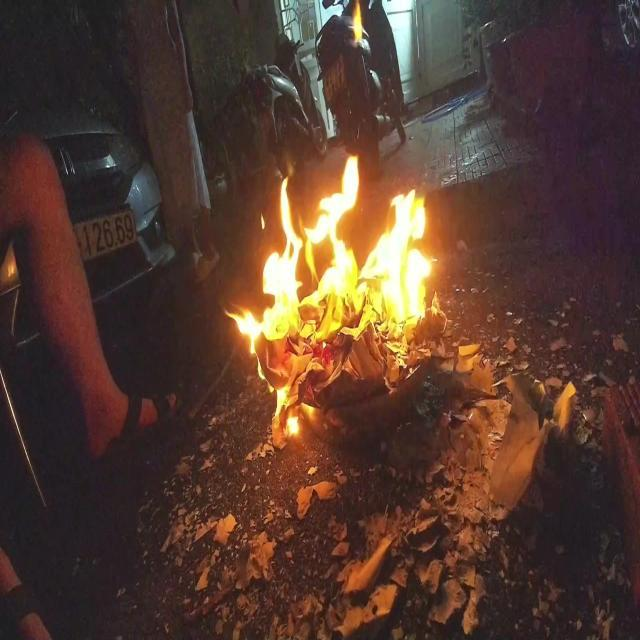Fire: (222, 154, 434, 438)
